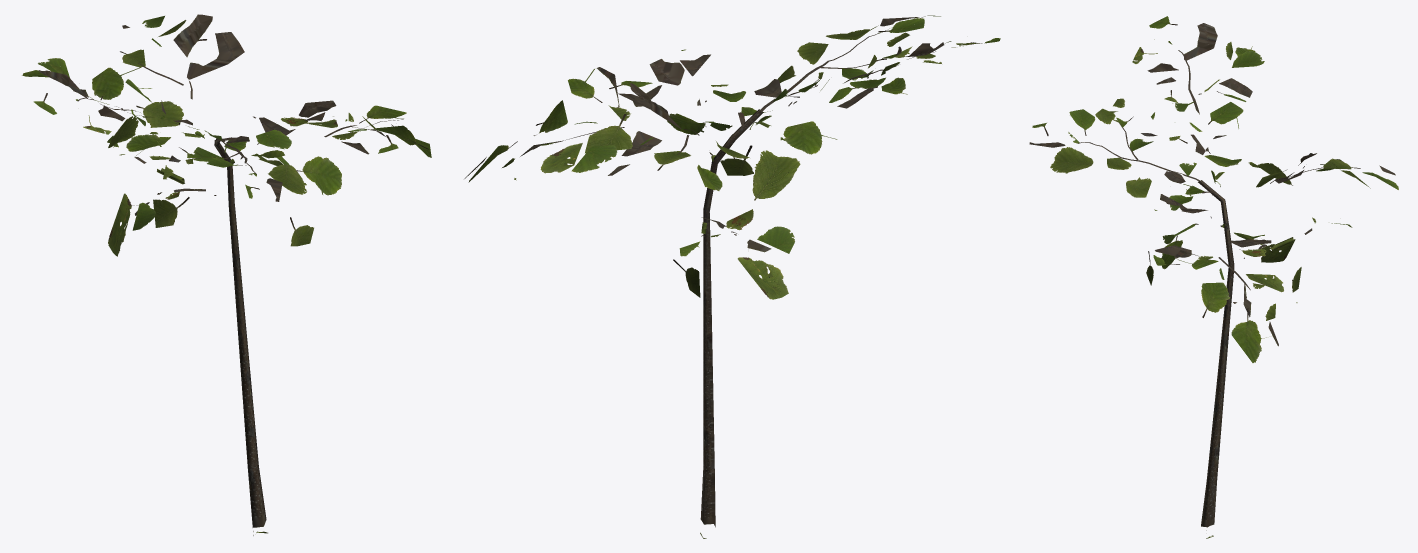
Rendered from SM_BlackAlder_Sapling_01_PP_LOD2.gltf.
3 views of the same model, side by side, from view 1: azimuth 30°, elevation 25°; view 2: azimuth 150°, elevation 25°; view 3: azimuth 270°, elevation 25° (orthographic). The views are drawn at different scales.
Visible parts, largest first — view 1: SM_BlackAlder_Sapling_01_PP; view 2: SM_BlackAlder_Sapling_01_PP; view 3: SM_BlackAlder_Sapling_01_PP.
Part boxes in pixels (left/top/right/bottom): SM_BlackAlder_Sapling_01_PP: left=22, top=14, right=431, bottom=535; SM_BlackAlder_Sapling_01_PP: left=464, top=15, right=1000, bottom=538; SM_BlackAlder_Sapling_01_PP: left=1029, top=16, right=1398, bottom=538.
Size of the model in its own units: 0.9007 by 0.9824 by 0.7834.
1 material, 1 textured.
